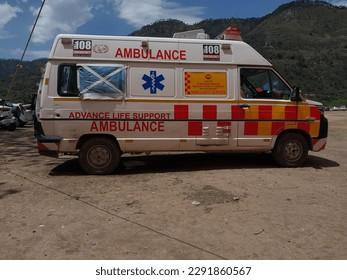ER: (35, 26, 329, 168)
